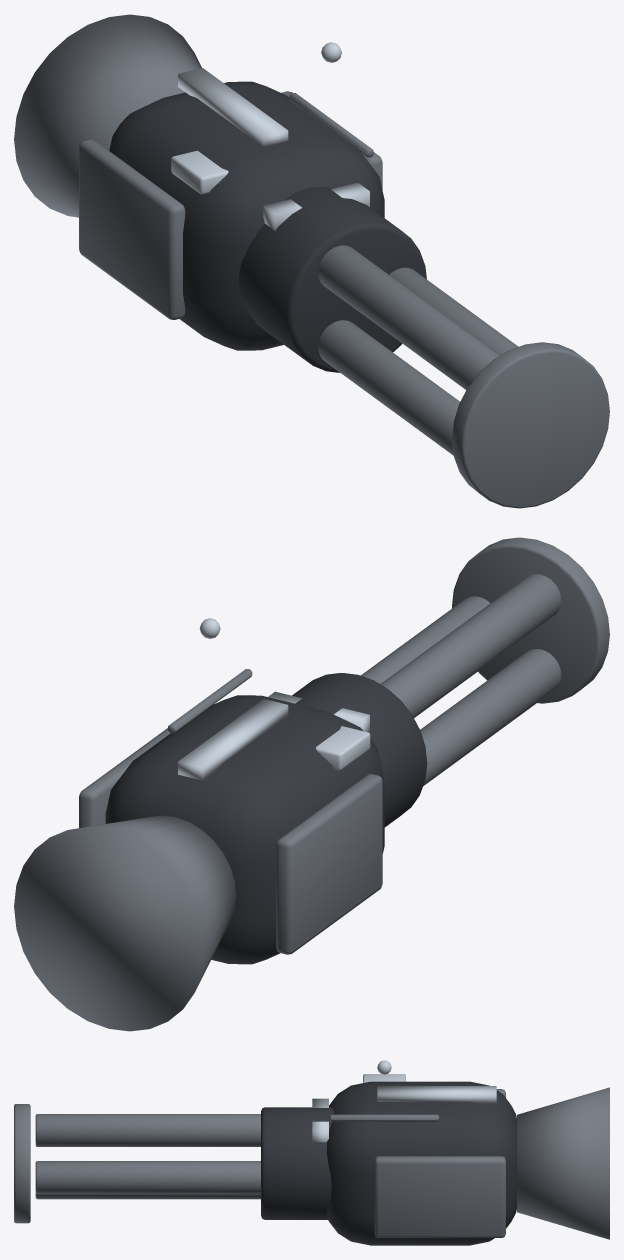
File: weapon_drone_hornet_rep.glb
3 renders of one model, top to bottom at view 1: azimuth 30°, elevation 25°; view 2: azimuth 150°, elevation 25°; view 3: azimuth 270°, elevation 25°, orthographic. The views are drawn at different scales.
Parts seen in each view (by area): view 1: weapon_drone_hornet_rep; view 2: weapon_drone_hornet_rep; view 3: weapon_drone_hornet_rep.
Part boxes in pixels (<box>): weapon_drone_hornet_rep: <box>14,14,609,508</box>; weapon_drone_hornet_rep: <box>14,537,609,1031</box>; weapon_drone_hornet_rep: <box>14,1060,609,1245</box>.
Size of the model in its own units: 0.5184 by 0.64 by 1.8.
